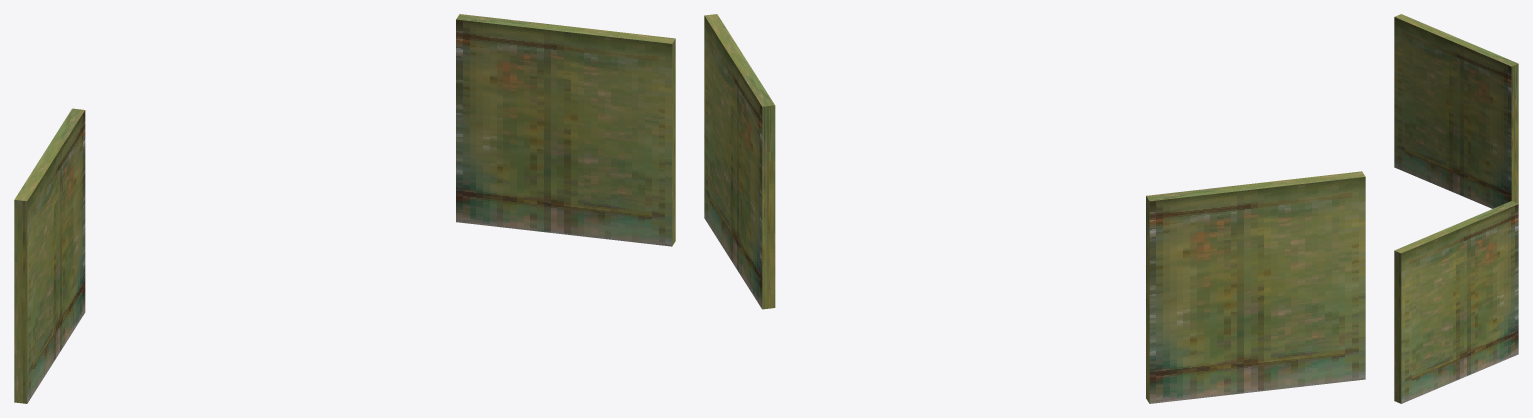
Rendered from shutters_small_double_open_01.glb.
3 renders of one model, left to right at view 1: azimuth 30°, elevation 25°; view 2: azimuth 150°, elevation 25°; view 3: azimuth 270°, elevation 25°, orthographic. The views are drawn at different scales.
Parts seen in each view (by area): view 1: shutters_small_double_open_012; view 2: shutters_small_double_open_012; view 3: shutters_small_double_open_012.
Part boxes in pixels (<box>): shutters_small_double_open_012: <box>14,14,675,403</box>; shutters_small_double_open_012: <box>704,14,1365,403</box>; shutters_small_double_open_012: <box>1394,14,1518,403</box>.
Size of the model in its own units: 3.41 by 1 by 0.7495.
Materials: 1 (1 with a texture image).
